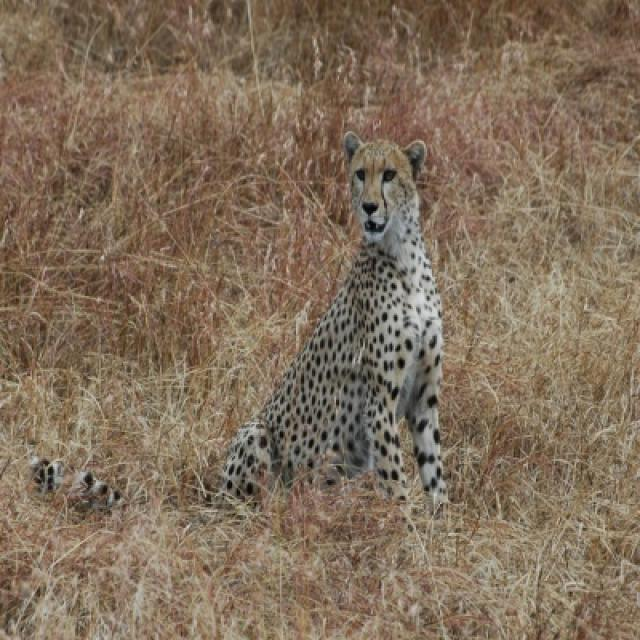Cheetah: (216, 133, 443, 506)
